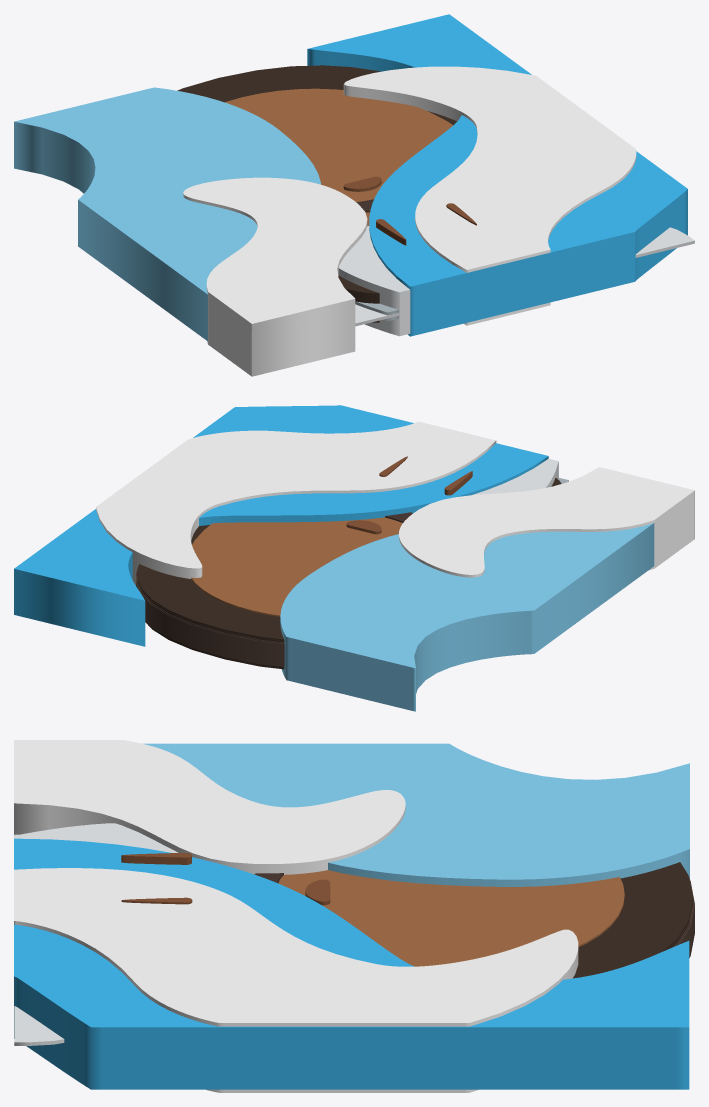
File: emoji_u1f9d6_1f3fe_200d_2640.glb
The picture shows the model from 3 angles, top to bottom: view 1: azimuth 30°, elevation 25°; view 2: azimuth 150°, elevation 25°; view 3: azimuth 270°, elevation 25°; orthographic projection. The views are drawn at different scales.
Parts seen in each view (by area): view 1: emoji_u1f9d6_1f3fe_200d_2640; view 2: emoji_u1f9d6_1f3fe_200d_2640; view 3: emoji_u1f9d6_1f3fe_200d_2640.
Part boxes in pixels (x1=…): emoji_u1f9d6_1f3fe_200d_2640: x1=14, y1=14, x2=694, y2=376; emoji_u1f9d6_1f3fe_200d_2640: x1=14, y1=405, x2=694, y2=711; emoji_u1f9d6_1f3fe_200d_2640: x1=14, y1=740, x2=694, y2=1092.
Size of the model in its own units: 0.0333 by 0.0042 by 0.0336.
